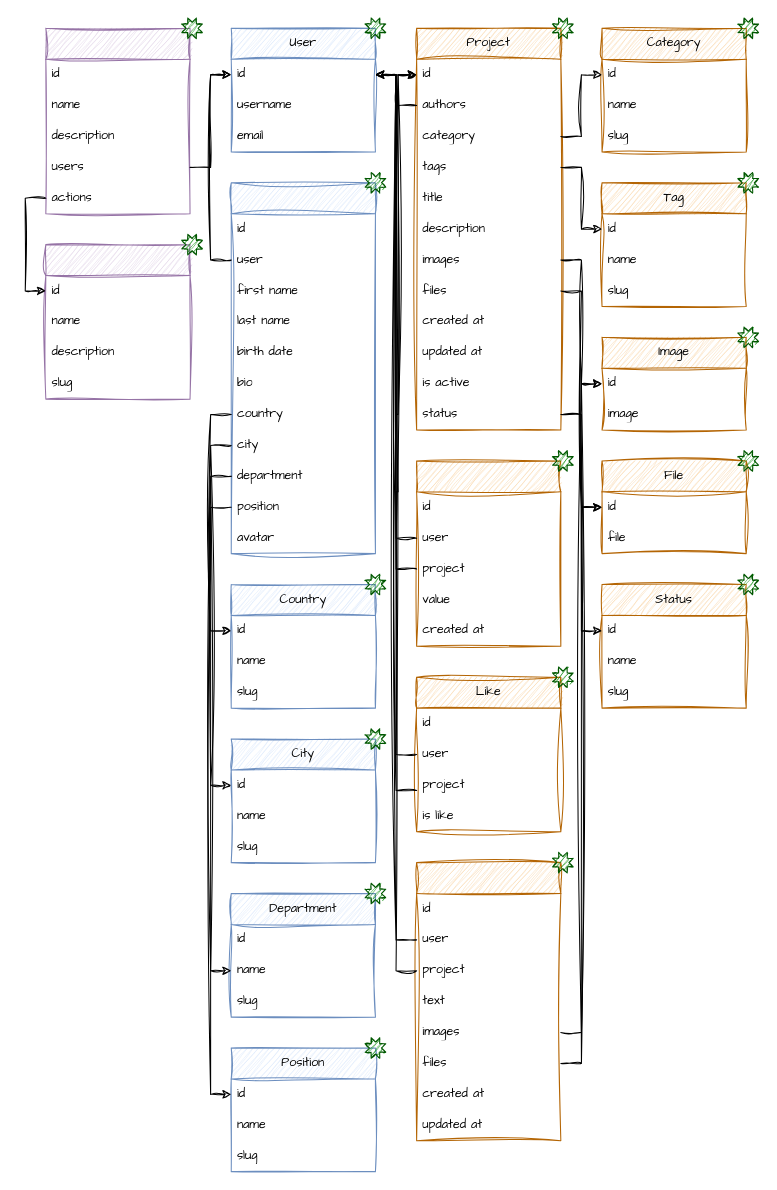
Some shapes in this 777 by 1190 pixel diagram are drawn without their labels. Each missing label, with the box of its shape:
Action: (45, 244, 190, 399)
Comment: (416, 862, 561, 1141)
Extended Group: (45, 27, 190, 214)
Profile: (230, 182, 375, 554)
Rating: (416, 460, 561, 646)
